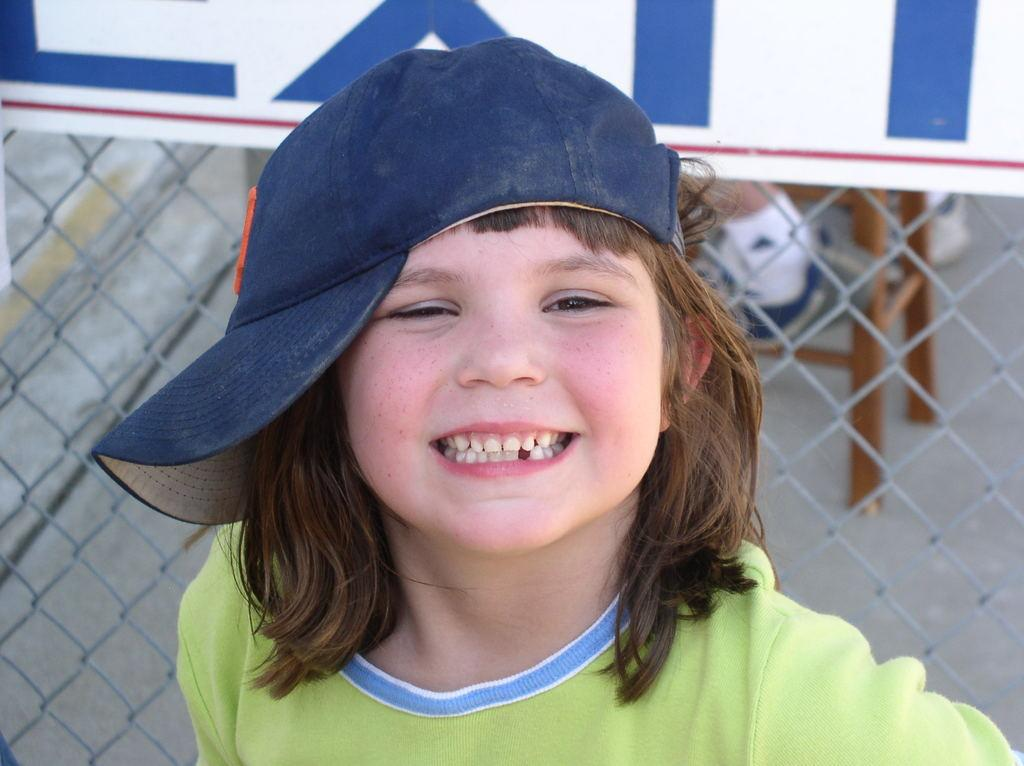Hat: (91, 35, 689, 524)
